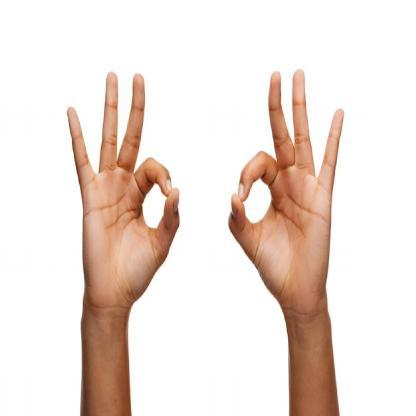ok: (224, 64, 344, 320), (66, 68, 182, 310)
